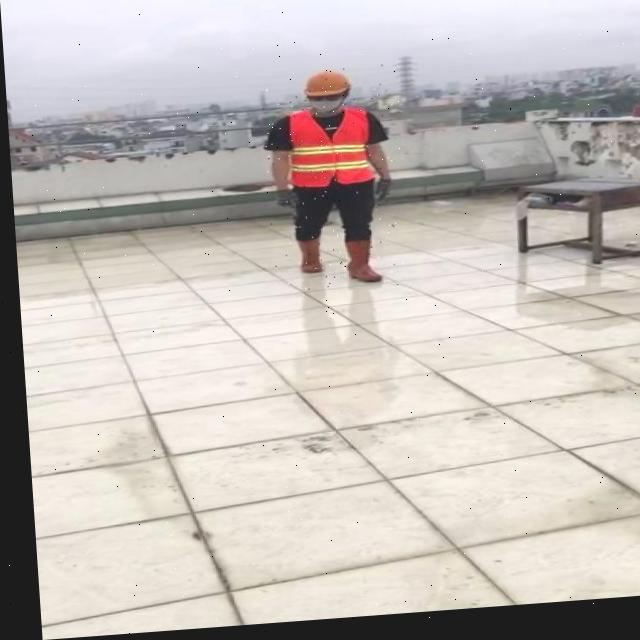Gloves: (370, 183, 388, 206)
Helmet: (301, 71, 350, 103)
Safety-Boot: (340, 242, 377, 288), (293, 240, 319, 277)
Safety-Vest: (283, 110, 371, 194)
